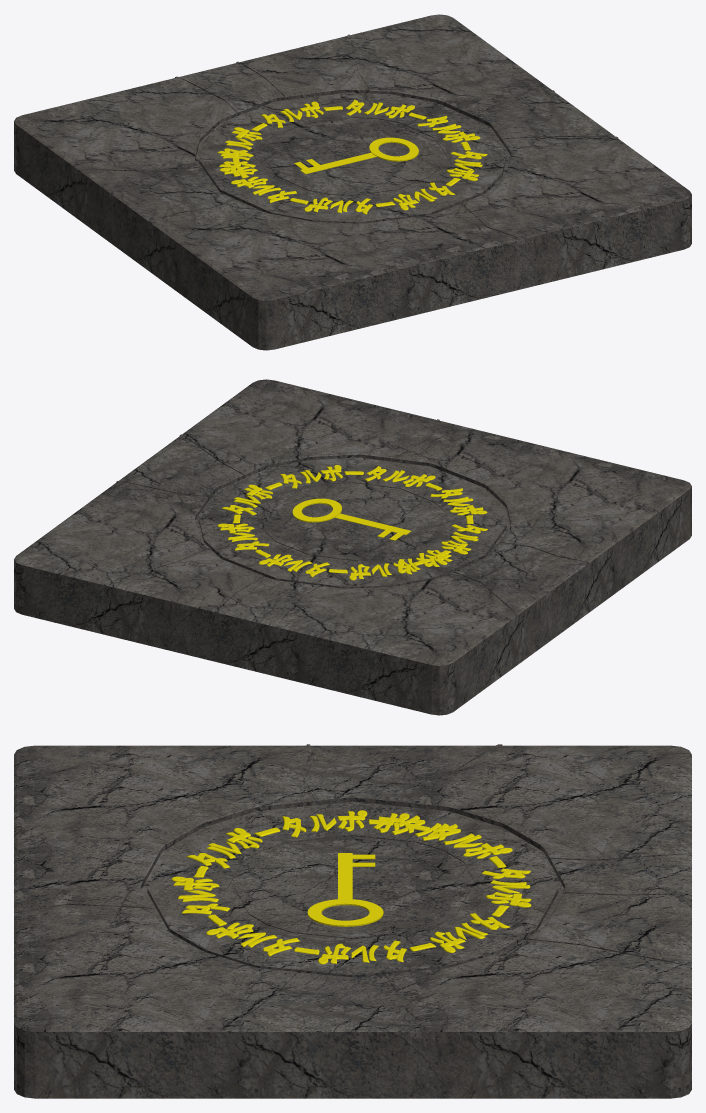
Rendered from Portal.fbx.
The picture shows the model from 3 angles, top to bottom: view 1: azimuth 30°, elevation 25°; view 2: azimuth 150°, elevation 25°; view 3: azimuth 270°, elevation 25°; orthographic projection. The views are drawn at different scales.
Parts seen in each view (by area): view 1: Cube.003, Text.003, Llave.003; view 2: Cube.003, Text.003, Llave.003; view 3: Cube.003, Text.003, Llave.003.
Boxes of the visible parts, bbox=[...] form: Cube.003: bbox=[14, 14, 691, 350]; Text.003: bbox=[217, 99, 487, 214]; Llave.003: bbox=[294, 137, 418, 174]; Cube.003: bbox=[14, 379, 691, 715]; Text.003: bbox=[217, 465, 487, 580]; Llave.003: bbox=[292, 498, 411, 540]; Cube.003: bbox=[14, 744, 691, 1098]; Text.003: bbox=[171, 810, 531, 964]; Llave.003: bbox=[307, 853, 383, 926].
Bounding box in the file's own units: 281 × 32.4 × 281.
Materials: 2 (1 with a texture image).
